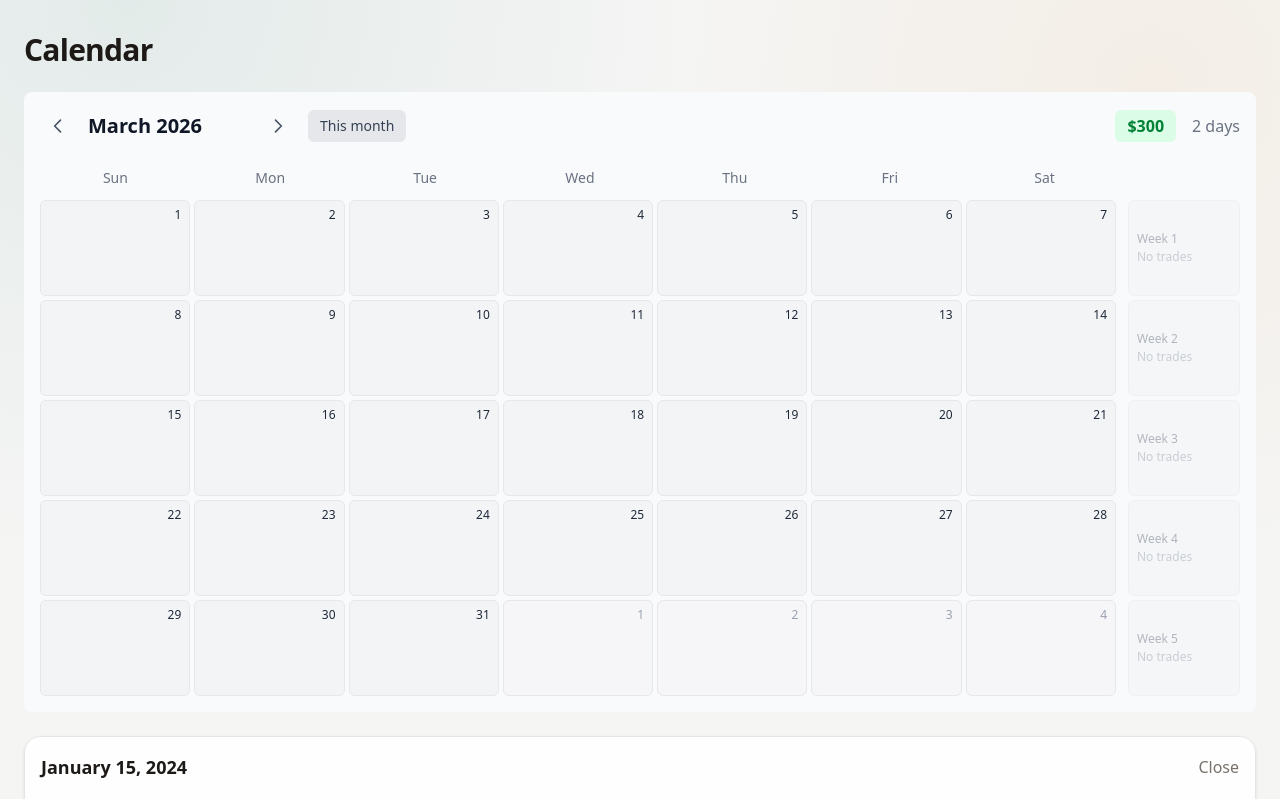
it: CalendarView › day selection › closes day detail on Close click
The width and height of the screenshot is (1280, 799).
Expected: the heading "January 15, 2024" is shown, x1=41 y1=753 x2=187 y2=781
What coordinates should you click on to do the following:
click the button "Close"
I would click on:
 (1219, 767)
Its box is x1=1198 y1=755 x2=1239 y2=779.
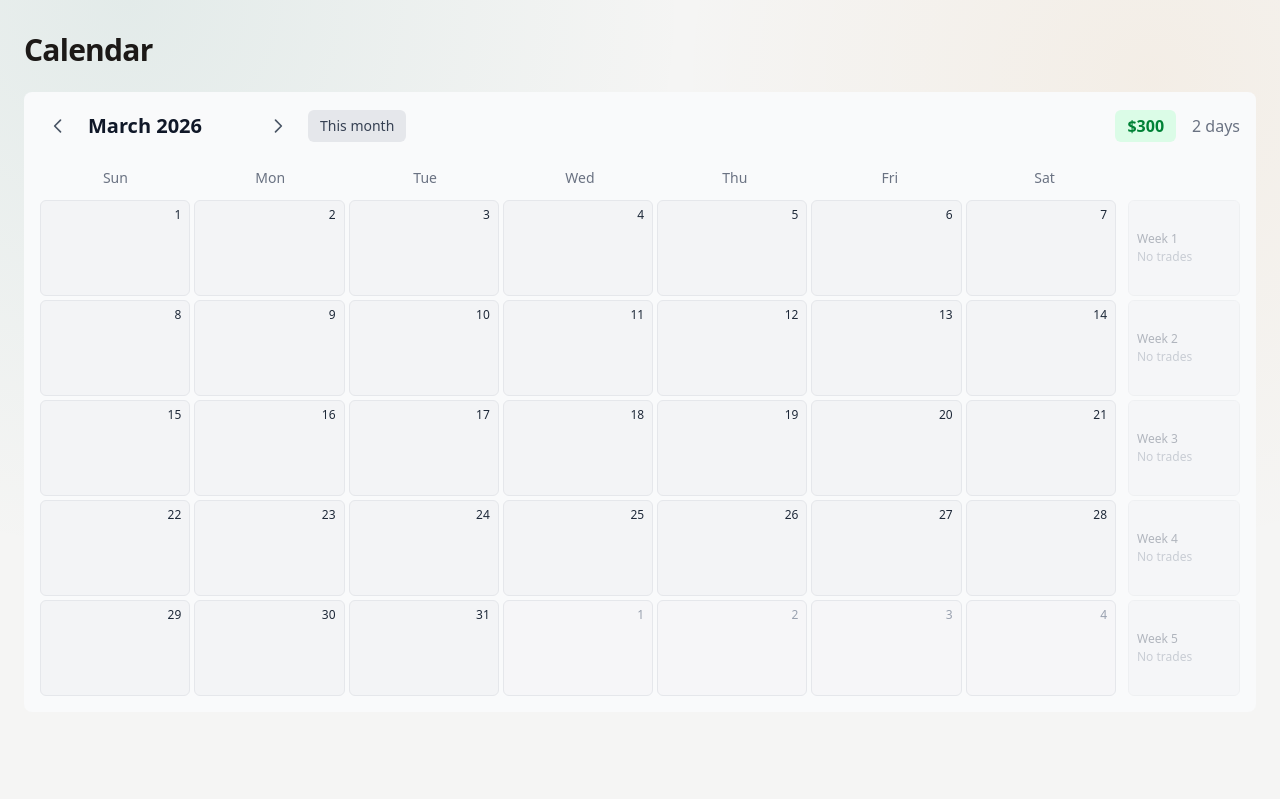
Result: the heading "January 15, 2024" is gone
